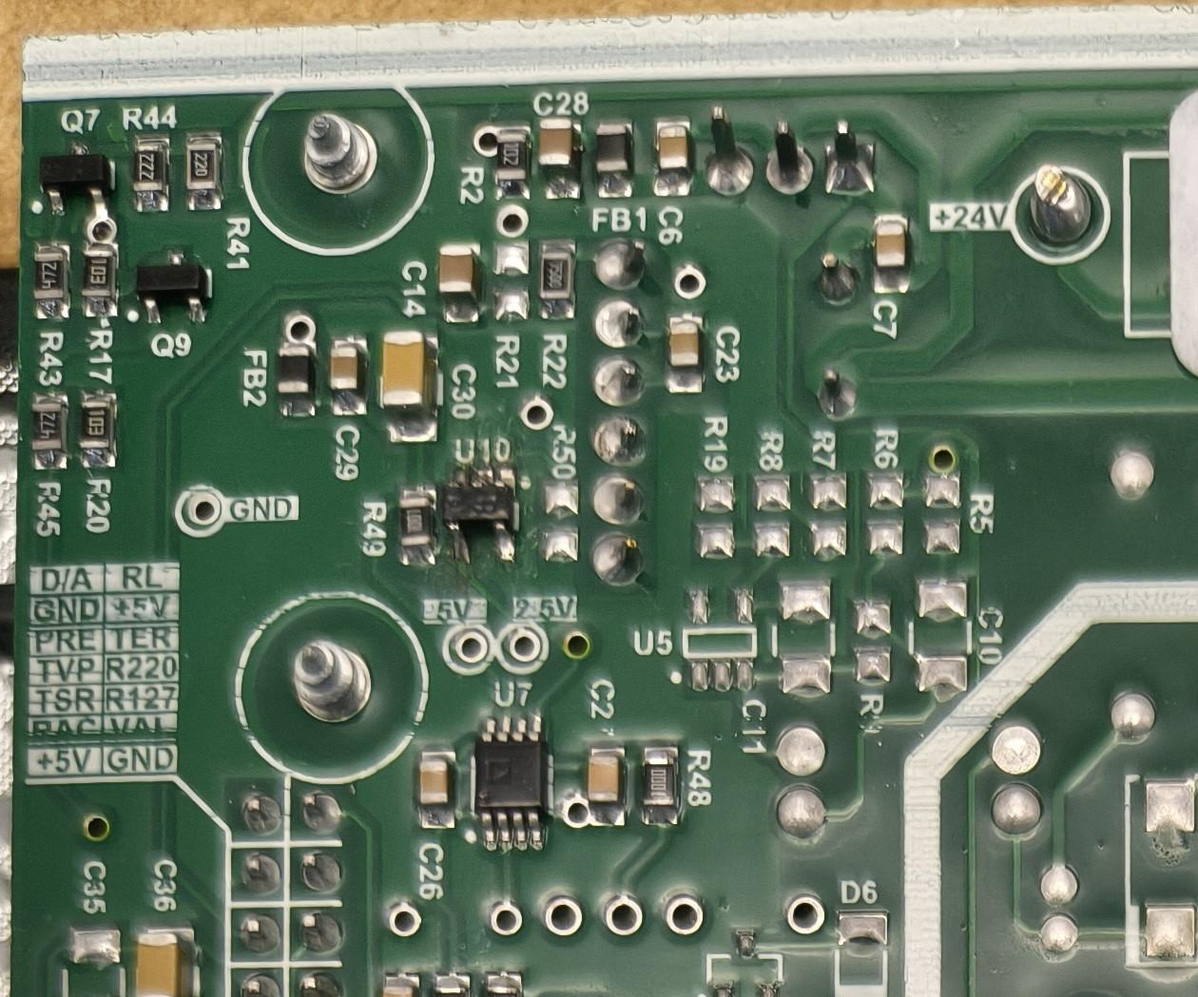C+: (379, 329, 443, 449), (576, 742, 633, 824), (323, 338, 372, 421), (535, 113, 580, 202), (435, 241, 478, 326), (662, 322, 707, 393), (652, 117, 690, 196), (870, 215, 906, 296), (419, 756, 458, 825)
R+: (184, 131, 228, 220), (29, 389, 76, 471), (634, 749, 685, 824), (79, 394, 127, 472), (538, 235, 580, 318), (131, 134, 172, 215), (26, 241, 65, 323), (79, 243, 119, 318), (495, 124, 531, 203), (403, 487, 437, 565)
R/CFaltante: (771, 574, 850, 704), (902, 571, 974, 693), (806, 466, 858, 566), (846, 592, 896, 691), (484, 236, 539, 323), (862, 475, 916, 562), (921, 469, 969, 565), (690, 476, 741, 565), (536, 476, 583, 571), (749, 479, 798, 562)
Soldagem+: (1022, 164, 1109, 259), (696, 123, 760, 205), (764, 127, 825, 206), (594, 232, 651, 299), (589, 355, 654, 413), (591, 473, 658, 529), (825, 124, 875, 196), (815, 244, 862, 314), (596, 529, 641, 595), (594, 415, 647, 468), (823, 363, 865, 424), (233, 904, 276, 960), (297, 847, 345, 896), (599, 300, 643, 353), (297, 790, 348, 835), (233, 790, 278, 839), (299, 910, 347, 955), (237, 848, 278, 897)
U+: (478, 705, 558, 858), (443, 461, 520, 566)
UFaltante: (669, 577, 767, 704)
